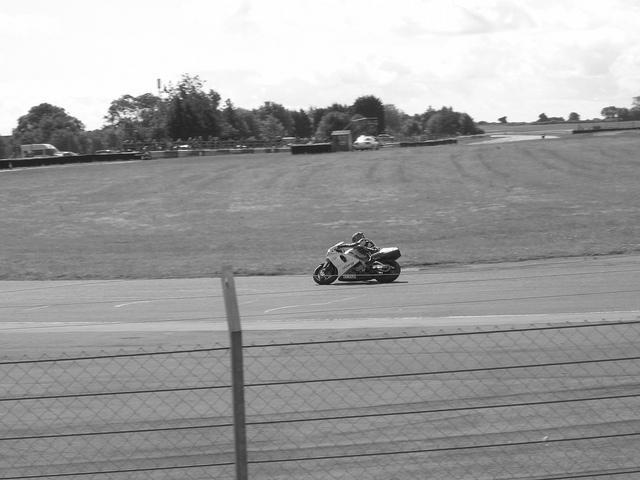car: (352, 134, 378, 150), (374, 134, 394, 143), (53, 152, 79, 156), (174, 144, 192, 149), (94, 150, 120, 153)
motorcycle: (312, 239, 404, 286)
truck: (21, 144, 76, 158)
